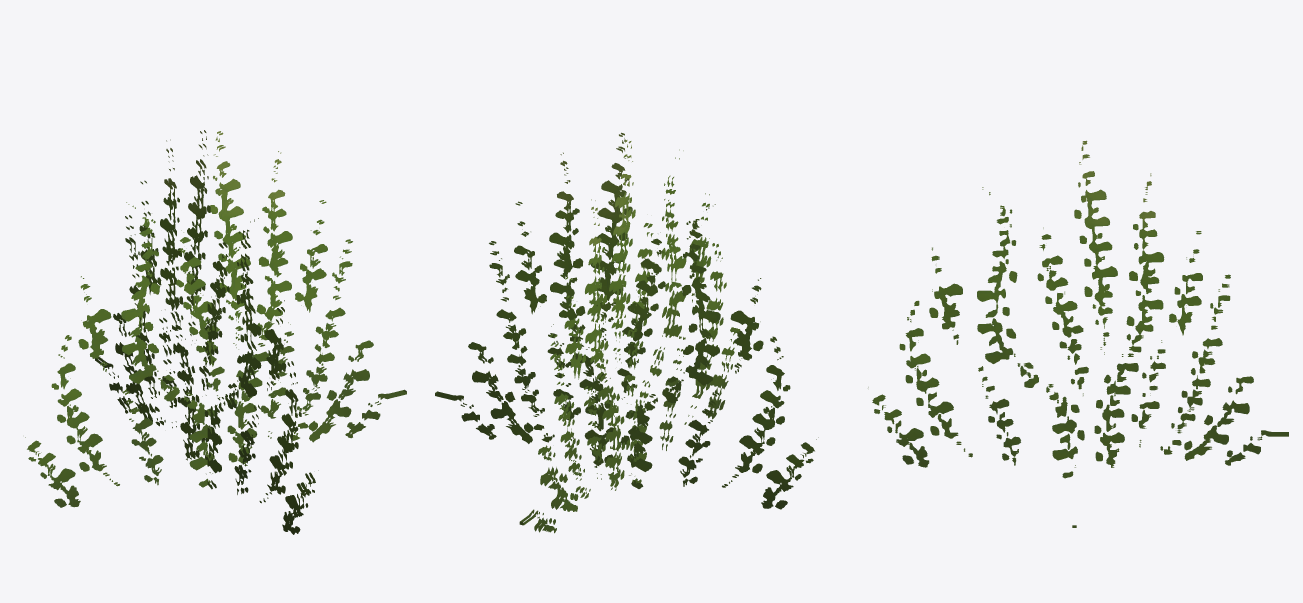
Rendered from Grass3.fbx.
3 views of the same model, side by side, from view 1: azimuth 30°, elevation 25°; view 2: azimuth 150°, elevation 25°; view 3: azimuth 270°, elevation 25° (orthographic). The views are drawn at different scales.
Visible parts, largest first — view 1: n_grass_diff_0_60; view 2: n_grass_diff_0_60; view 3: n_grass_diff_0_60.
Part boxes in pixels (x1,y1,x2,y2): n_grass_diff_0_60: (25, 130, 406, 534); n_grass_diff_0_60: (435, 132, 818, 533); n_grass_diff_0_60: (868, 140, 1288, 527).
Bounding box in the file's own units: 100 × 100 × 100.
